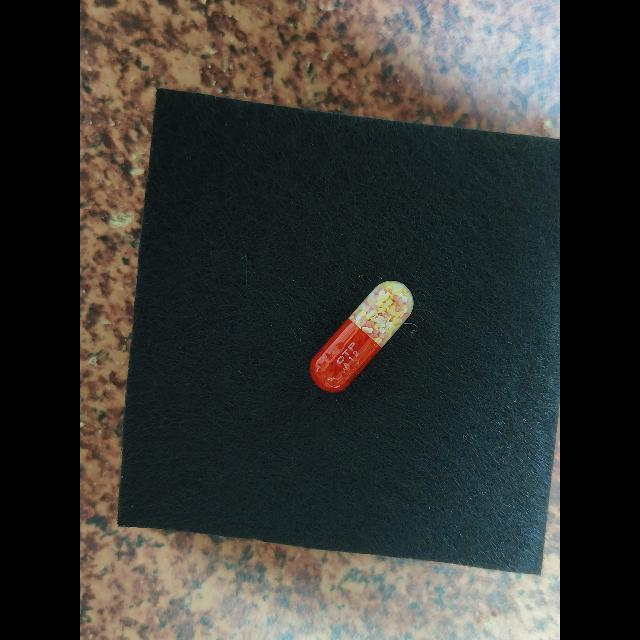Intact Capsule: (309, 280, 414, 392)
